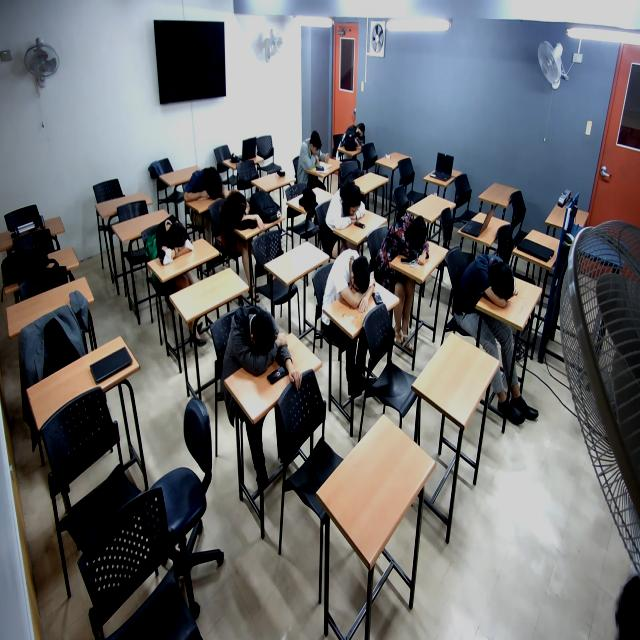sleep: (228, 309, 290, 376), (458, 250, 521, 311), (323, 250, 383, 311), (384, 213, 437, 271), (220, 188, 264, 238), (327, 181, 368, 232), (155, 217, 195, 268), (185, 167, 227, 205), (340, 121, 368, 155)
